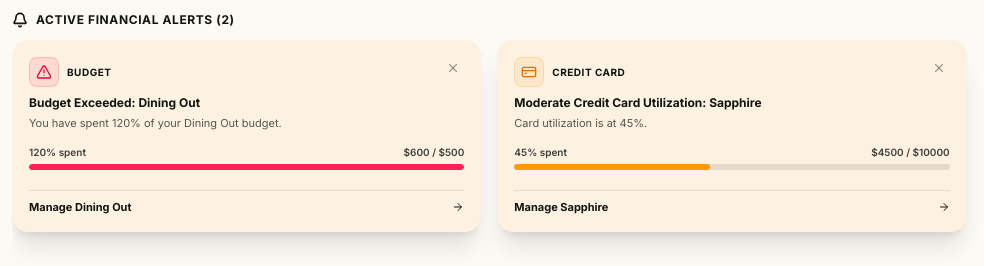
FinancialAlertsBanner Component Suite › Allows dismissing an alert from the banner
Step 1. Click the 1st button titled "Dismiss alert" → click(453, 68), box x1=442 y1=57 x2=464 y2=79
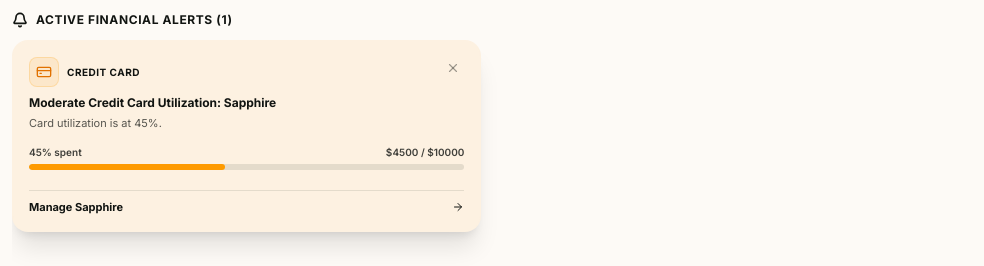
Check: the heading "Active Financial Alerts (1)" is shown, box x1=36 y1=12 x2=232 y2=28
